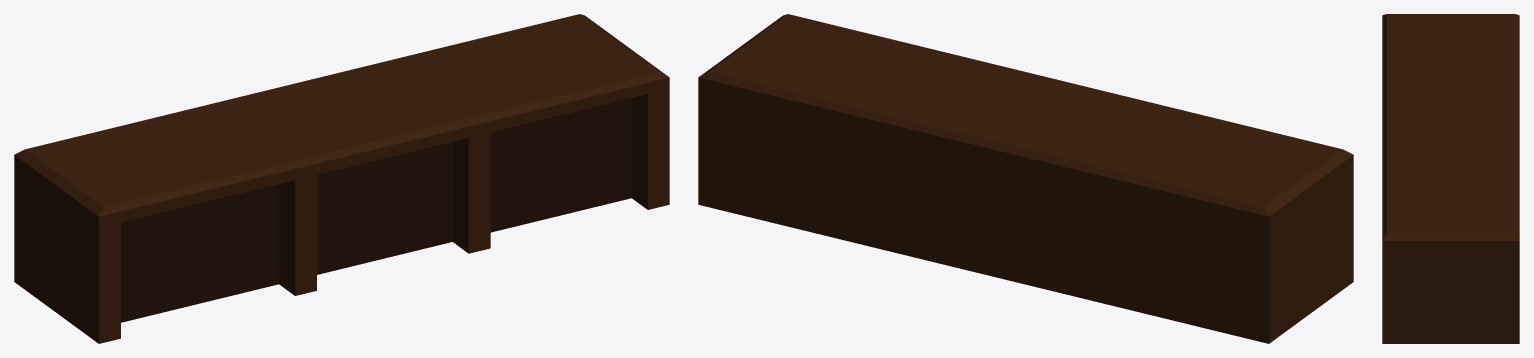
Rendered from counter.glb.
3 views of the same model, side by side, from view 1: azimuth 30°, elevation 25°; view 2: azimuth 150°, elevation 25°; view 3: azimuth 270°, elevation 25° (orthographic). The views are drawn at different scales.
Parts seen in each view (by area): view 1: Counter; view 2: Counter; view 3: Counter.
Part boxes in pixels (box(x1,y1,x2,y2)): Counter: box(14, 14, 669, 343); Counter: box(698, 14, 1353, 343); Counter: box(1382, 14, 1519, 343).
Bounding box in the file's own units: 4.5 × 1 × 1.16.
